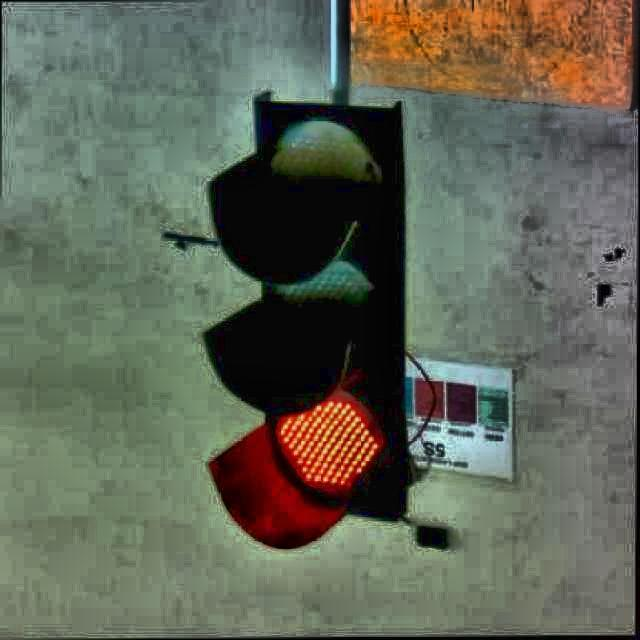red: (236, 94, 414, 528)
